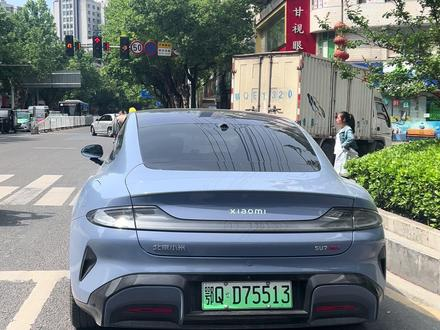su7: (65, 109, 388, 330)
